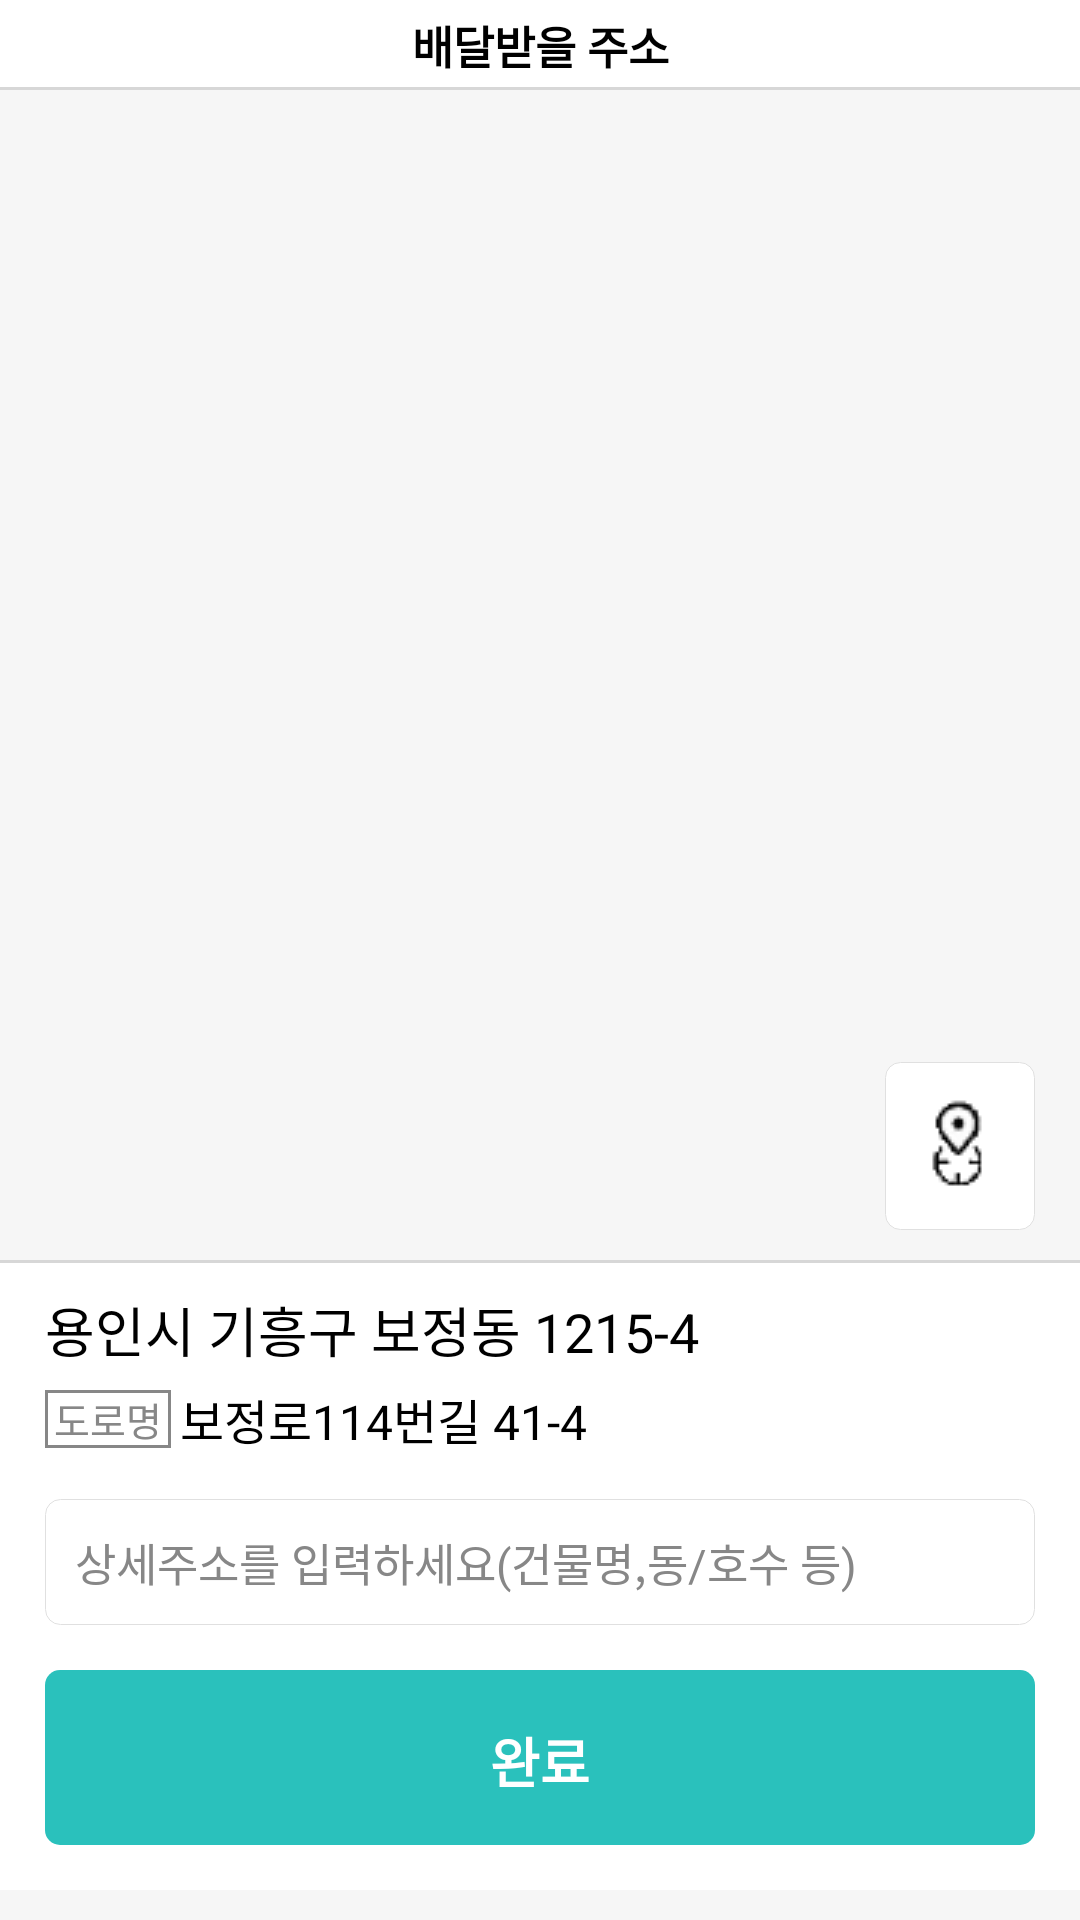

Icon bounding boxes for this 1080×1920 phone screenshot, format (x1, y1, x2, y2):
location: (932, 1100, 982, 1186)
